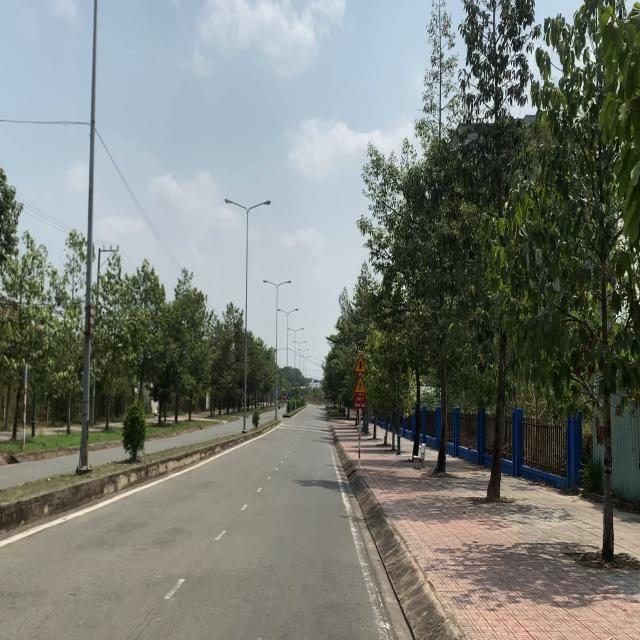Giao voi duong khong uu tien: (354, 354, 367, 374)
Nguoi di bo cat ngang: (354, 374, 366, 394)
